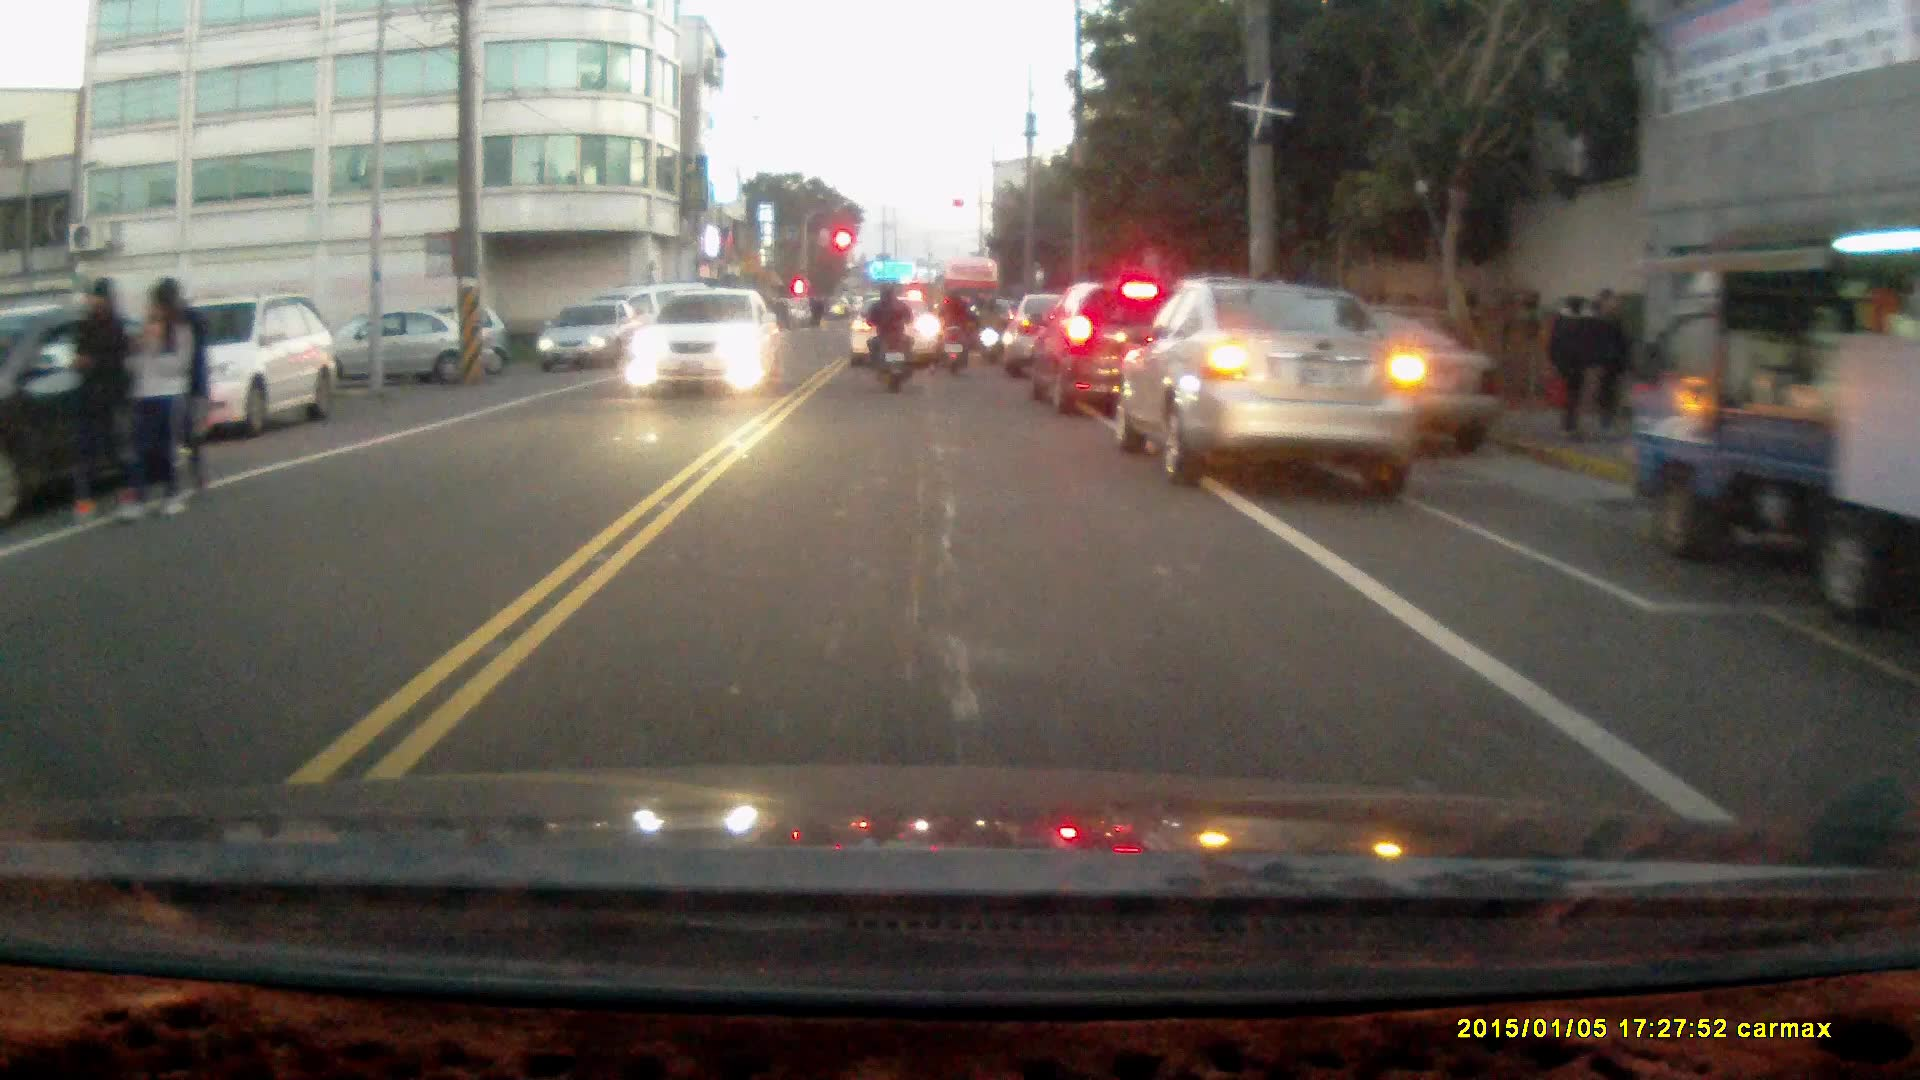pedestrian: (116, 280, 193, 528), (60, 271, 129, 520), (1583, 287, 1635, 436), (1547, 292, 1598, 438)
rider: (863, 277, 912, 394), (931, 281, 977, 377)
vehicle: (1636, 218, 1920, 617), (1123, 277, 1422, 491), (1, 299, 214, 531), (112, 290, 337, 436), (1036, 279, 1175, 415), (624, 289, 778, 393), (538, 301, 641, 368), (851, 293, 946, 365)
